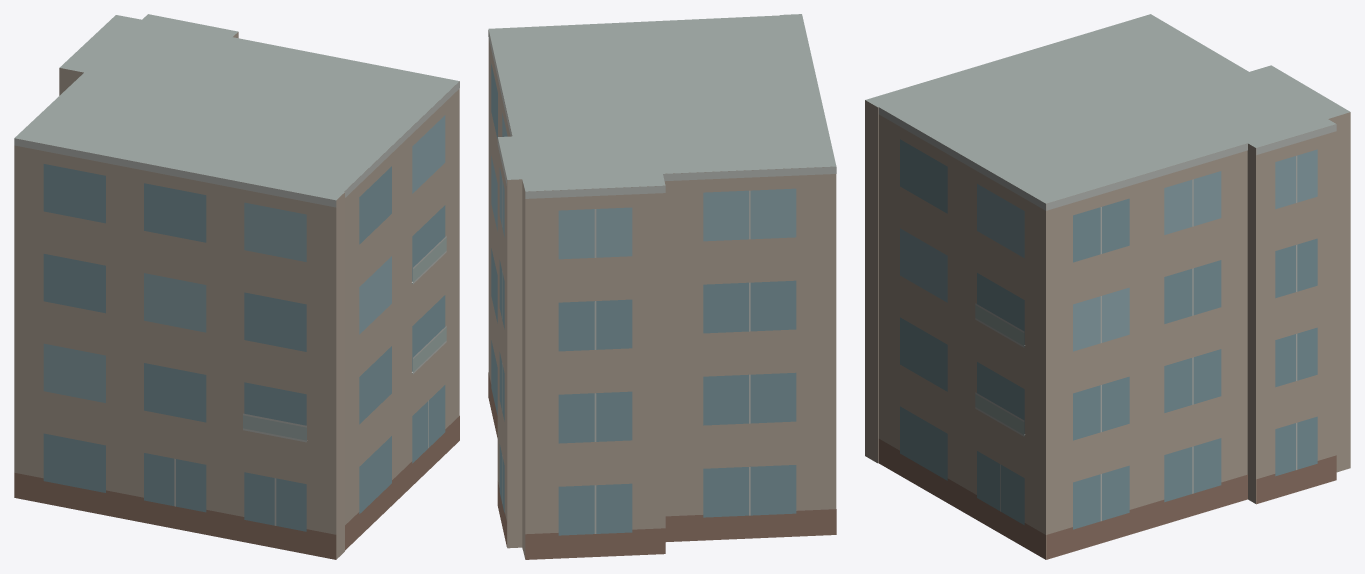
Rendered from survey-upis-32665161.glb.
3 renders of one model, left to right at view 1: azimuth 30°, elevation 25°; view 2: azimuth 150°, elevation 25°; view 3: azimuth 270°, elevation 25°, orthographic. The views are drawn at different scales.
Visible parts, largest first — view 1: survey-upis-32665161.tmp; view 2: survey-upis-32665161.tmp; view 3: survey-upis-32665161.tmp.
Boxes of the visible parts, x1,y1,x2,y2 form: survey-upis-32665161.tmp: (14, 14, 459, 559); survey-upis-32665161.tmp: (488, 14, 836, 559); survey-upis-32665161.tmp: (865, 14, 1350, 559).
Bounding box in the file's own units: 13.89 × 12.15 × 15.03.
